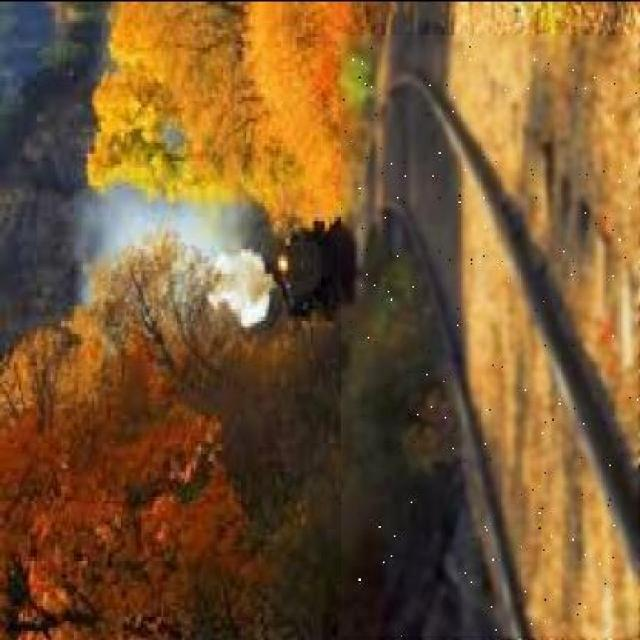rail: (342, 37, 639, 637)
